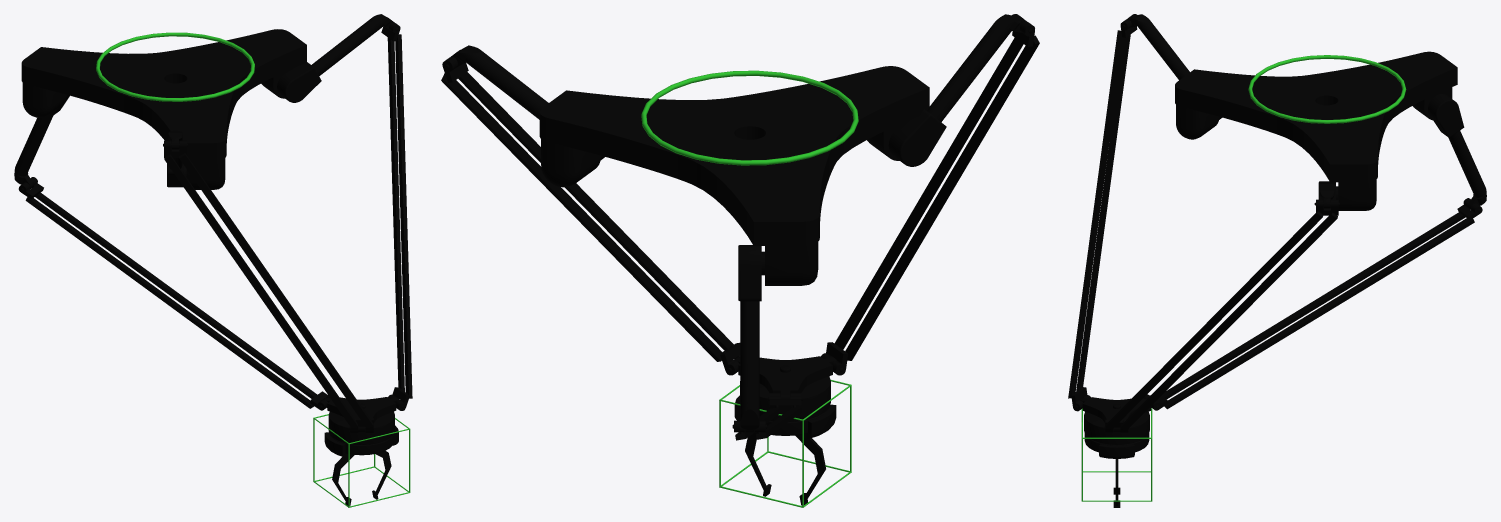
The model's file is uploads_files_3074097_Rigged+model.gltf.
The picture shows the model from 3 angles, left to right: view 1: azimuth 30°, elevation 25°; view 2: azimuth 150°, elevation 25°; view 3: azimuth 270°, elevation 25°; orthographic projection. The views are drawn at different scales.
Visible parts, largest first — view 1: Base, Rod_R_003, Rod_L_003, Rod_L_1, Rod_R_002, Rod_L_002, Rod_R_1, Main_hand_1, Engine, Contr_Main, Main_hand_002, Krestovina (+2 smaller); view 2: Base, Main_hand_003, Rod_R_1, Rod_L_003, Rod_R_003, Main_hand_002, Rod_L_1, Contr_Main, Engine, Krestovina, Main_hand_1, Contr_hand; view 3: Base, Rod_L_002, Rod_R_002, Rod_R_003, Rod_L_1, Rod_L_003, Rod_R_1, Main_hand_002, Engine, Contr_Main, Main_hand_003, Krestovina (+1 smaller).
Part boxes in pixels (x1=…): Base: x1=21, y1=29, x2=306, y2=189; Rod_R_003: x1=179, y1=153, x2=373, y2=427; Rod_L_003: x1=164, y1=154, x2=358, y2=428; Rod_L_1: x1=395, y1=34, x2=412, y2=398; Rod_R_002: x1=25, y1=197, x2=313, y2=408; Rod_L_002: x1=35, y1=192, x2=317, y2=398; Rod_R_1: x1=387, y1=37, x2=404, y2=391; Main_hand_1: x1=277, y1=14, x2=398, y2=102; Engine: x1=324, y1=411, x2=398, y2=457; Contr_Main: x1=96, y1=32, x2=254, y2=101; Main_hand_002: x1=14, y1=95, x2=69, y2=191; Krestovina: x1=319, y1=397, x2=403, y2=432; Base: x1=539, y1=66, x2=929, y2=285; Main_hand_003: x1=888, y1=14, x2=1032, y2=166; Rod_R_1: x1=441, y1=73, x2=725, y2=361; Rod_L_003: x1=842, y1=35, x2=1039, y2=360; Rod_R_003: x1=833, y1=37, x2=1023, y2=349; Main_hand_002: x1=732, y1=245, x2=767, y2=432; Rod_L_1: x1=458, y1=72, x2=734, y2=350; Contr_Main: x1=641, y1=70, x2=858, y2=165; Engine: x1=734, y1=376, x2=836, y2=438; Krestovina: x1=727, y1=356, x2=843, y2=400; Main_hand_1: x1=445, y1=45, x2=604, y2=159; Contr_hand: x1=719, y1=380, x2=851, y2=507; Base: x1=1175, y1=51, x2=1457, y2=210; Rod_L_002: x1=1164, y1=218, x2=1474, y2=409; Rod_R_002: x1=1161, y1=212, x2=1465, y2=399; Rod_R_003: x1=1068, y1=30, x2=1123, y2=398; Rod_L_1: x1=1105, y1=211, x2=1323, y2=429; Rod_L_003: x1=1076, y1=34, x2=1130, y2=391; Rod_R_1: x1=1120, y1=212, x2=1337, y2=430; Main_hand_002: x1=1428, y1=94, x2=1486, y2=212; Engine: x1=1084, y1=411, x2=1149, y2=458; Contr_Main: x1=1248, y1=55, x2=1406, y2=123; Main_hand_003: x1=1122, y1=14, x2=1222, y2=119; Krestovina: x1=1075, y1=397, x2=1158, y2=431.
Bounding box in the file's own units: 0.9877 × 1.14 × 1.09.
